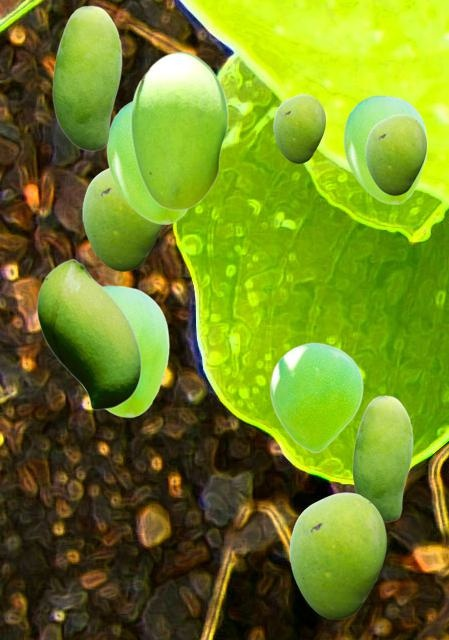green_mango: (36, 258, 140, 409), (130, 51, 227, 209), (289, 492, 385, 618), (270, 342, 362, 452), (52, 5, 121, 150), (106, 101, 187, 223), (343, 95, 426, 203), (104, 285, 168, 416), (82, 168, 163, 270), (352, 395, 412, 521), (365, 114, 425, 194), (273, 94, 324, 162)
